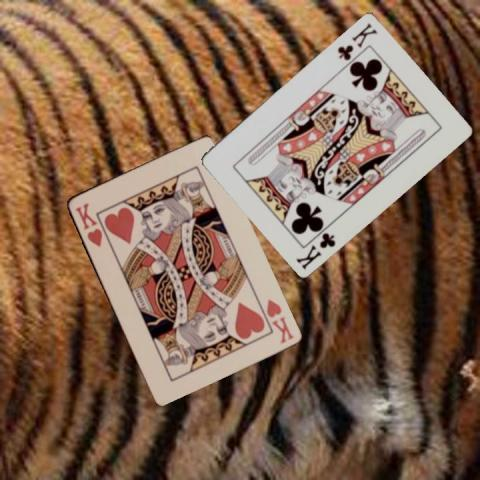Kc: (293, 228, 337, 270), (334, 20, 379, 61)
Kh: (263, 296, 295, 346), (72, 199, 103, 248)
